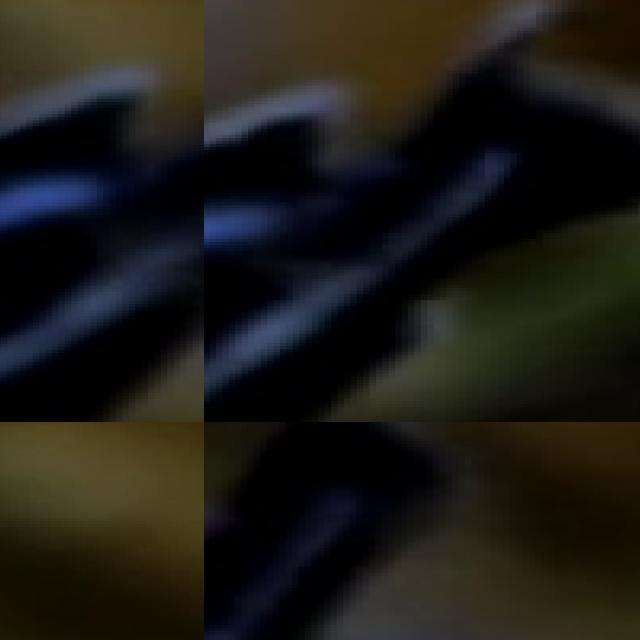fish: (204, 0, 640, 422), (0, 0, 204, 422)
